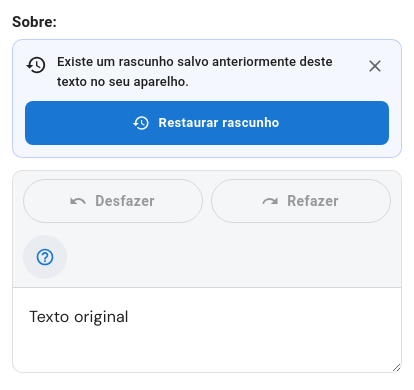
Test: RichTextEditor component › allows dismissing draft recovery notice without restoring
Step 1. Click the button named "descartar aviso de rascunho" → (375, 66), box 353,44 -> 397,88
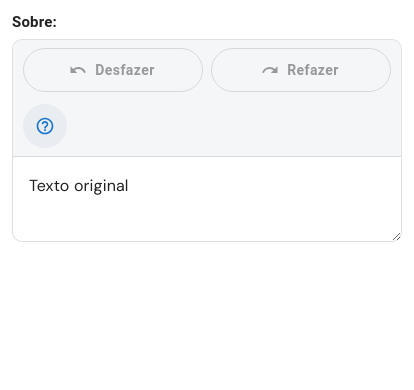
Check: the text "Existe um rascunho salvo anteriormente deste texto no seu aparelho" is gone
